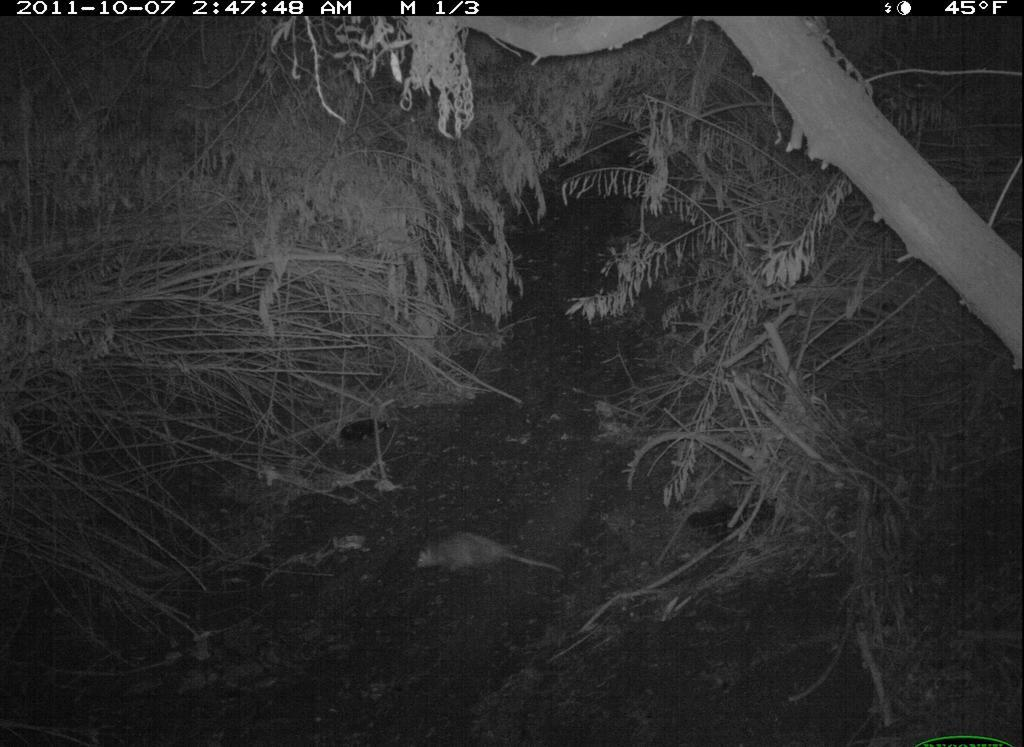opossum: (405, 518, 566, 584)
